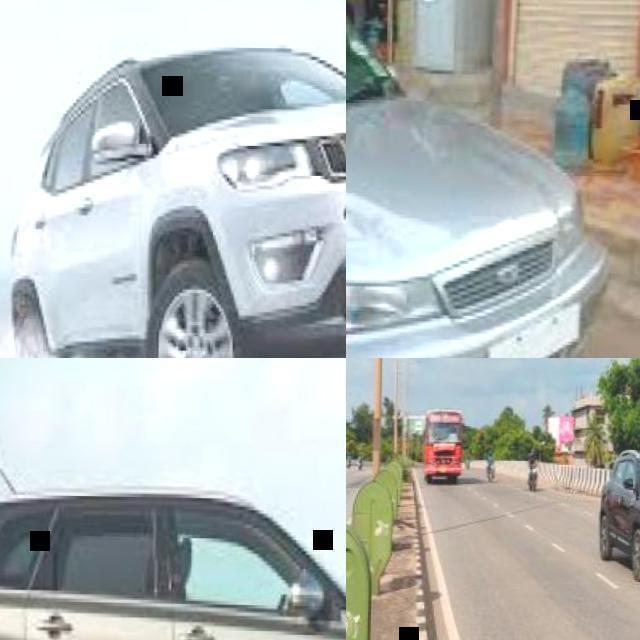car: (1, 0, 418, 637), (600, 446, 640, 578)
